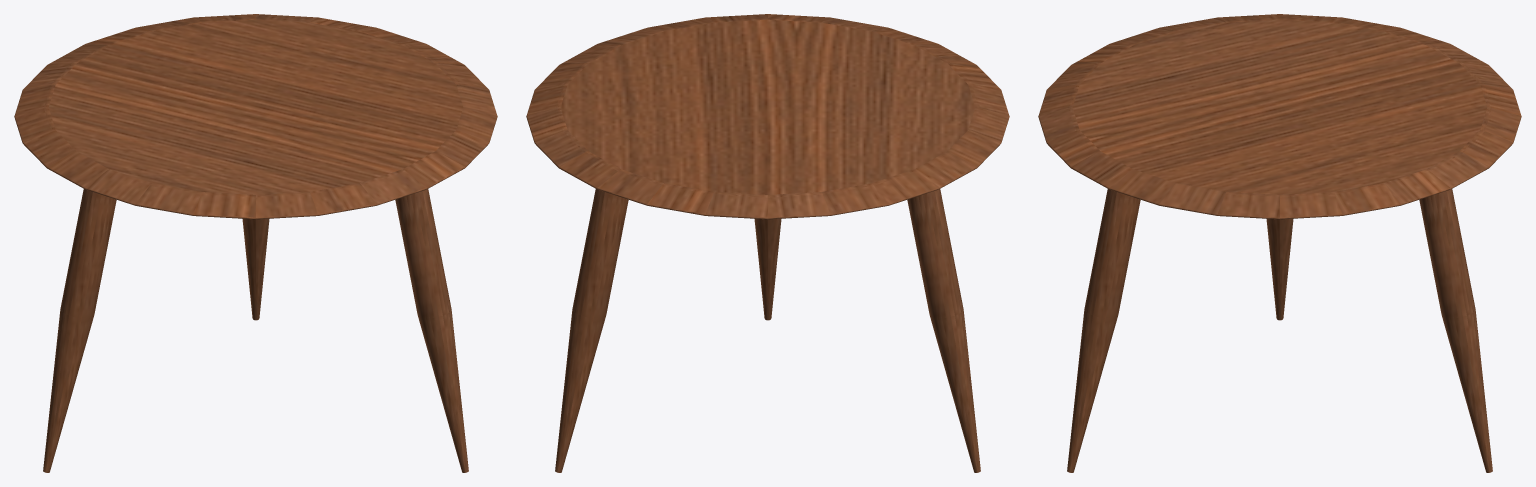
The picture shows the model from 3 angles, left to right: view 1: azimuth 30°, elevation 25°; view 2: azimuth 150°, elevation 25°; view 3: azimuth 270°, elevation 25°; orthographic projection.
Visible parts, largest first — view 1: Mesh4_Component_5_1_Group1_Modern_Coffee_Table1_Model; view 2: Mesh4_Component_5_1_Group1_Modern_Coffee_Table1_Model; view 3: Mesh4_Component_5_1_Group1_Modern_Coffee_Table1_Model.
Boxes of the visible parts, x1=… form: Mesh4_Component_5_1_Group1_Modern_Coffee_Table1_Model: x1=14, y1=14, x2=497, y2=472; Mesh4_Component_5_1_Group1_Modern_Coffee_Table1_Model: x1=526, y1=14, x2=1009, y2=472; Mesh4_Component_5_1_Group1_Modern_Coffee_Table1_Model: x1=1038, y1=14, x2=1521, y2=472.
Size of the model in its own units: 1.01 by 0.7163 by 0.9996.
1 material, 1 textured.
